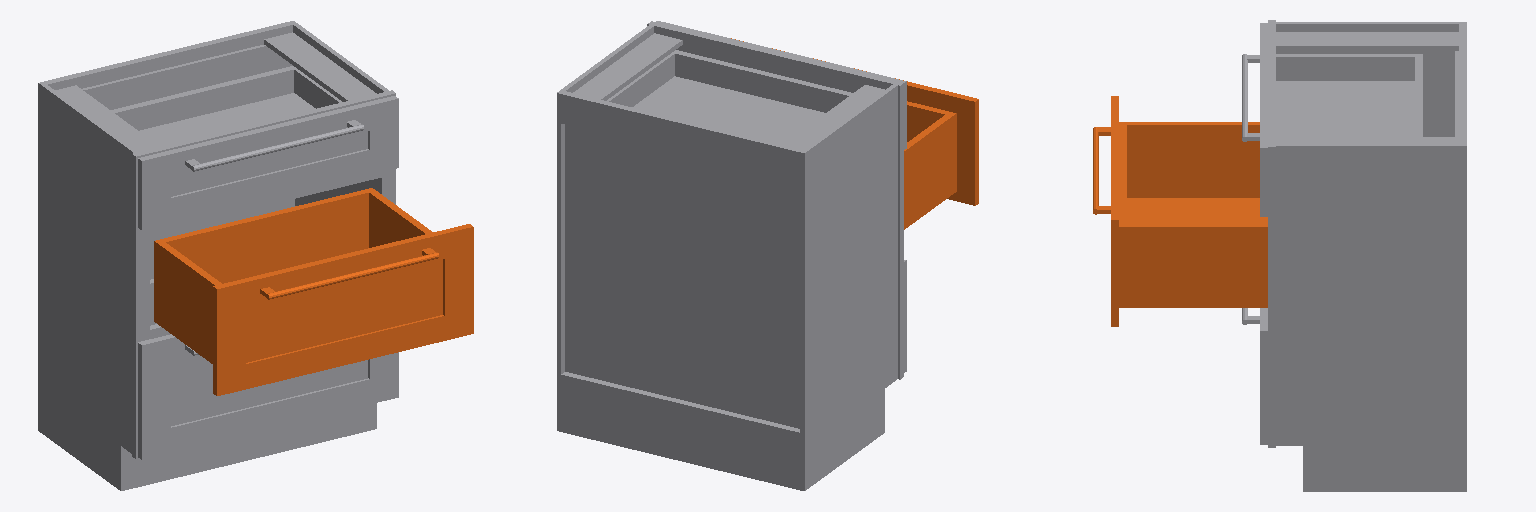
The robot description file, URDF, robot "storage_45135":
<?xml version="1.0"?>
<robot name="storage_45135">
  <!-- Meshes come from the dataset *_rotate exports, which share the joint frame. -->
  <link name="base_link">
    <visual>
      <origin xyz="0 0 0" rpy="0 0 0"/>
      <geometry>
        <mesh filename="meshes/storage_45135_base.obj"/>
      </geometry>
      <material name="steel_grey">
        <color rgba="0.70 0.70 0.72 1.0"/>
      </material>
    </visual>
    <collision>
      <origin xyz="0 0 0" rpy="0 0 0"/>
      <geometry>
        <mesh filename="meshes/storage_45135_base.obj"/>
      </geometry>
    </collision>
    <inertial>
      <origin xyz="0.013470023 -0.211303630 0.119331198" rpy="0 0 0"/>
      <mass value="0.075717439"/>
      <inertia ixx="0.020054628" ixy="0.000000000" ixz="0.000000000" iyy="0.023975386" iyz="0.000000000" izz="0.014292671"/>
    </inertial>
  </link>

  <link name="moving_link">
    <visual>
      <origin xyz="0 0 0" rpy="0 0 0"/>
      <geometry>
        <mesh filename="meshes/storage_45135_moving.obj"/>
      </geometry>
      <material name="handle_orange">
        <color rgba="0.93 0.47 0.16 1.0"/>
      </material>
    </visual>
    <collision>
      <origin xyz="0 0 0" rpy="0 0 0"/>
      <geometry>
        <mesh filename="meshes/storage_45135_moving.obj"/>
      </geometry>
    </collision>
    <inertial>
      <origin xyz="0.030206647 -0.516530169 0.087568440" rpy="0 0 0"/>
      <mass value="0.024282561"/>
      <inertia ixx="0.001526486" ixy="0.000000000" ixz="0.000000000" iyy="0.003292218" iyz="0.000000000" izz="0.003914181"/>
    </inertial>
  </link>

  <joint name="scissor_hinge" type="revolute">
    <origin xyz="-0.014597692 -0.382321000 0.135593923" rpy="0 0 0"/>
    <parent link="base_link"/>
    <child link="moving_link"/>
    <axis xyz="0.000000000 -1.000000000 0.000000000"/>
    <limit lower="0.000000000" upper="0.000000000" effort="5.0" velocity="4.0"/>
    <dynamics damping="0.05" friction="0.02"/>
  </joint>
</robot>

--- What the picture shows (computed from the rendered views, not written in the file) ---
Views: 3 orthographic renders of the robot side by side, from view 1: azimuth 30°, elevation 25°; view 2: azimuth 150°, elevation 25°; view 3: azimuth 270°, elevation 25°.
Robot: storage_45135 — 2 links, 1 joints (1 revolute); root link base_link; default pose: all joints at 0.
Links seen in each view (by area): view 1: base_link, moving_link; view 2: base_link, moving_link; view 3: base_link, moving_link.
Link boxes in pixels (x1,y1,x2,y2): base_link: (38,21,398,490); moving_link: (154,188,473,395); base_link: (557,21,906,490); moving_link: (731,38,978,229); base_link: (1242,20,1466,491); moving_link: (1093,96,1267,326).
Bounding box of the posed robot: 1.2 × 1.51 × 1.54 m (x, y, z).
2 mesh visuals loaded from 2 distinct referenced files (2 OBJ).
